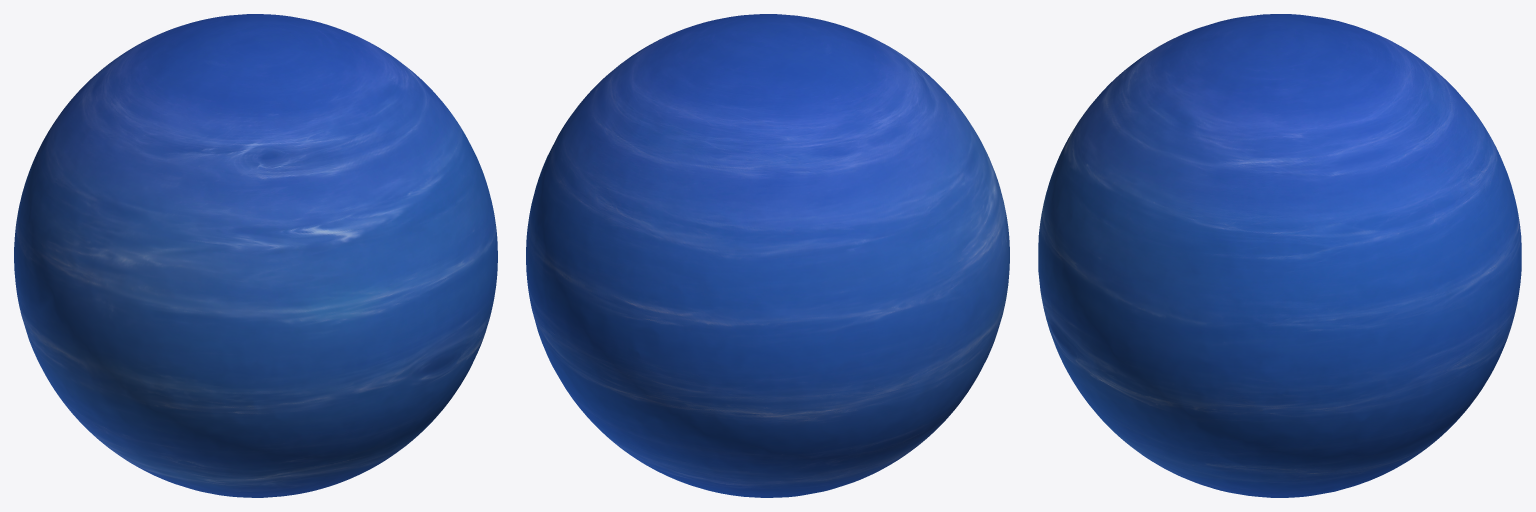
File: PlanetNeptune.glb
The picture shows the model from 3 angles, left to right: view 1: azimuth 30°, elevation 25°; view 2: azimuth 150°, elevation 25°; view 3: azimuth 270°, elevation 25°; orthographic projection.
Parts seen in each view (by area): view 1: Neptune; view 2: Neptune; view 3: Neptune.
Boxes of the visible parts, left/top/right/bottom form: Neptune: left=14, top=14, right=497, bottom=497; Neptune: left=526, top=14, right=1009, bottom=497; Neptune: left=1038, top=14, right=1521, bottom=497.
Bounding box in the file's own units: 2 × 2 × 2.
Materials: 1 (1 with a texture image).
